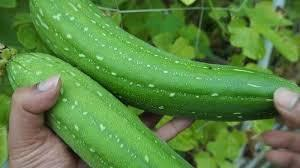sponge gourd: (28, 0, 299, 121), (5, 51, 194, 167)
